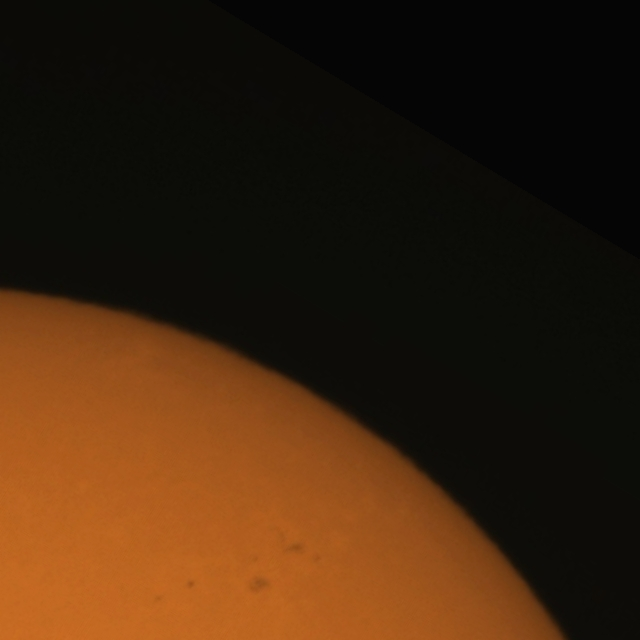sunspot: (248, 574, 271, 596), (185, 578, 196, 591)
